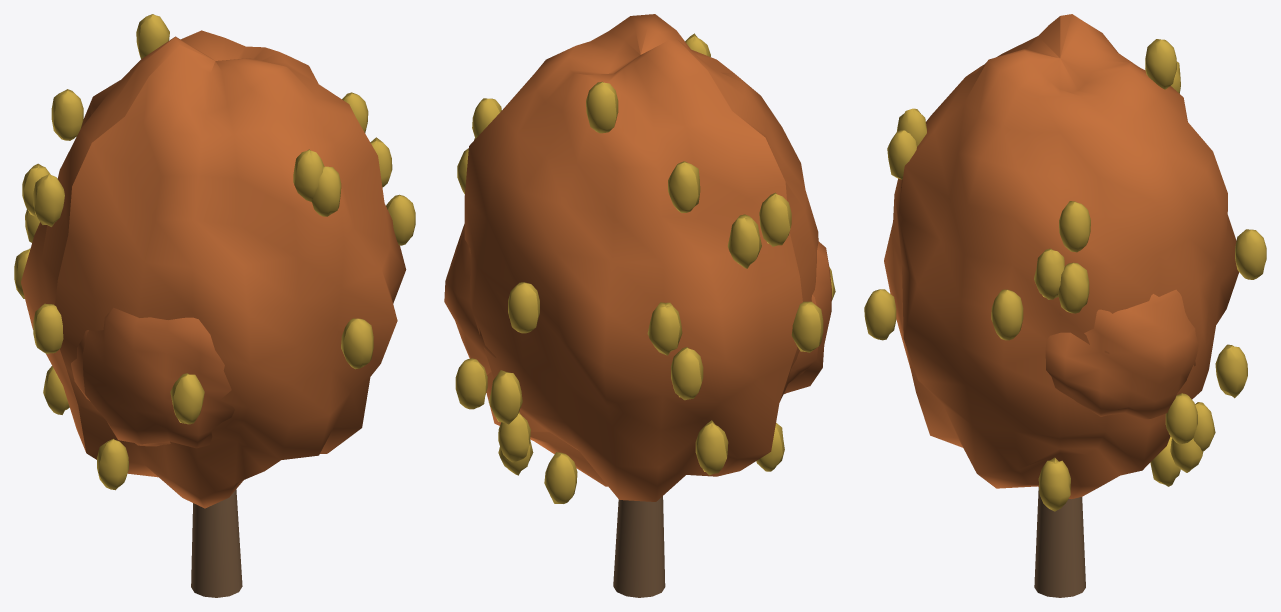
The model's file is korte-osz.glb.
3 renders of one model, left to right at view 1: azimuth 30°, elevation 25°; view 2: azimuth 150°, elevation 25°; view 3: azimuth 270°, elevation 25°, orthographic.
Parts seen in each view (by area): view 1: korona-1, korona-2, torzs, termes-20, termes-13, termes-11, termes-6, termes-16, termes-10, termes-24, termes-2, termes-23 (+4 smaller); view 2: korona-1, torzs, korona-3, korona-2, termes-21, termes-3, termes-7, termes-6, termes-14, termes-18, termes-15, termes-9 (+7 smaller); view 3: korona-1, korona-3, torzs, termes-22, termes-20, termes-14, termes-18, termes-23, termes-8, termes-5, termes-15, termes-3 (+6 smaller).
Part boxes in pixels (box(x1,y1,x2,y2)): korona-1: box(21, 30, 406, 508); korona-2: box(71, 307, 234, 448); torzs: box(191, 489, 242, 597); termes-20: box(341, 318, 373, 369); termes-13: box(51, 89, 83, 140); termes-11: box(170, 373, 204, 424); termes-6: box(33, 174, 64, 226); termes-16: box(97, 439, 128, 490); termes-10: box(33, 303, 63, 353); termes-24: box(293, 149, 323, 201); termes-2: box(311, 166, 341, 216); termes-23: box(386, 194, 415, 245); korona-1: box(464, 14, 818, 501); torzs: box(613, 496, 665, 597); korona-3: box(444, 224, 496, 374); korona-2: box(783, 241, 831, 394); termes-21: box(671, 347, 703, 400); termes-3: box(586, 81, 618, 133); termes-7: box(647, 302, 682, 355); termes-6: box(759, 192, 791, 246); termes-14: box(488, 370, 522, 424); termes-18: box(508, 282, 539, 333); termes-15: box(455, 358, 487, 409); termes-9: box(695, 420, 728, 475); korona-1: box(884, 14, 1239, 499); korona-3: box(1045, 289, 1198, 419); torzs: box(1034, 487, 1085, 597); termes-22: box(1038, 457, 1070, 511); termes-20: box(864, 289, 896, 340); termes-14: box(1215, 344, 1247, 398); termes-18: box(1235, 229, 1266, 279); termes-23: box(991, 289, 1023, 340); termes-8: box(1059, 201, 1090, 252); termes-5: box(1058, 262, 1089, 313); termes-15: box(1165, 393, 1197, 444); termes-3: box(1145, 39, 1176, 89).
Bounding box in the file's own units: 3.31 × 4.99 × 3.27.
